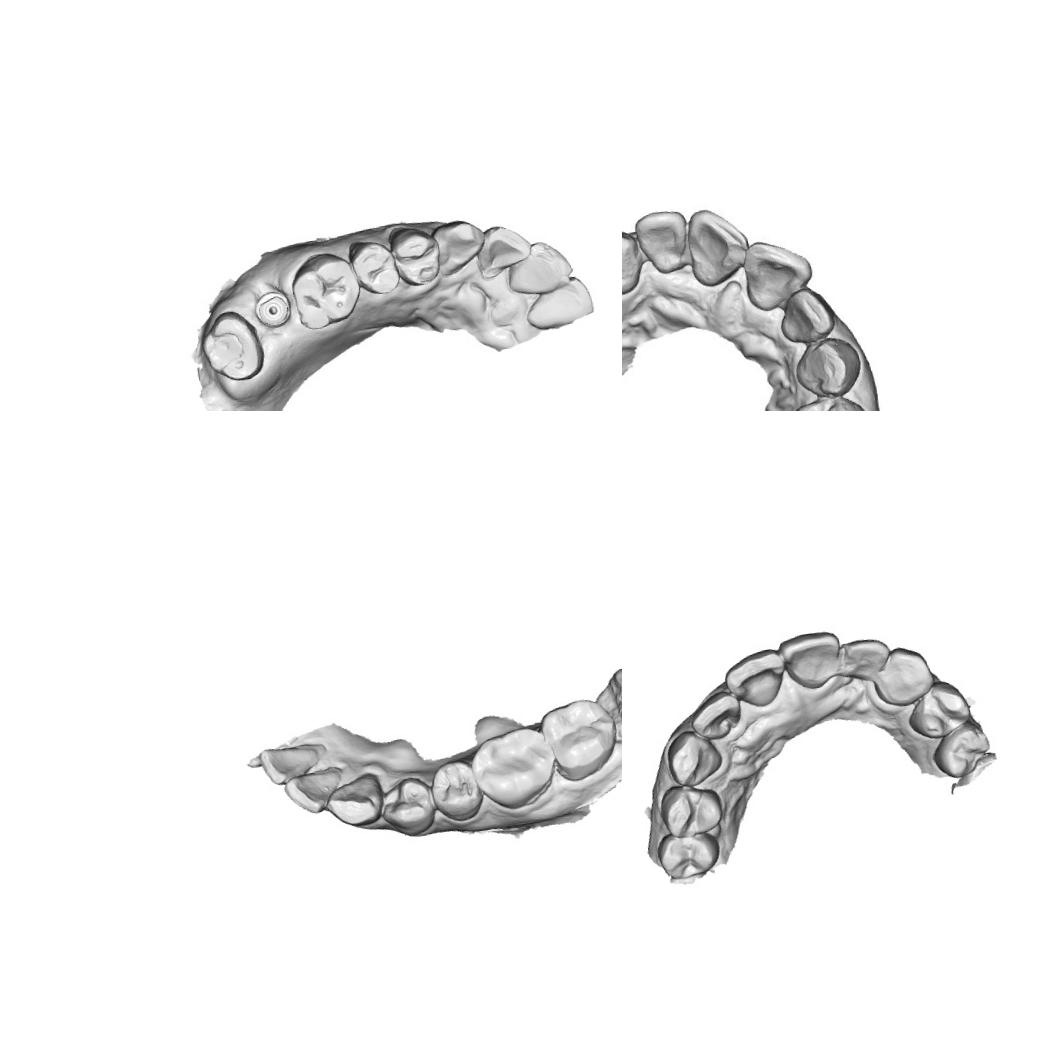canine: (871, 641, 938, 709), (662, 724, 726, 790), (794, 335, 860, 398), (430, 213, 490, 278), (323, 769, 386, 830), (622, 228, 647, 294)
implant: (252, 288, 295, 331)
incisor: (682, 204, 750, 292), (742, 237, 814, 312), (719, 645, 791, 713), (500, 236, 576, 300), (776, 627, 847, 695), (520, 273, 598, 333), (472, 219, 536, 278), (281, 762, 348, 818), (257, 739, 330, 790), (686, 686, 746, 744), (636, 210, 689, 268), (778, 292, 832, 348), (837, 633, 895, 684)
molar: (466, 722, 563, 816), (535, 691, 622, 786), (287, 248, 364, 334), (198, 306, 268, 387), (594, 660, 622, 748)
premolar: (902, 675, 976, 744), (374, 771, 439, 842), (654, 778, 728, 840), (926, 718, 995, 782), (427, 757, 488, 826), (651, 827, 725, 883), (387, 223, 442, 290), (345, 235, 402, 299), (792, 393, 859, 411)
